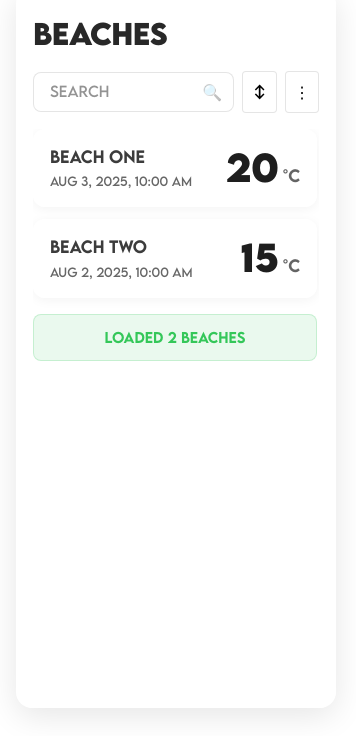
Test: HUDleftPoints Component › filters beaches via search input
This screenshot has width=356, height=736.
Expected: the heading "Beach One" is shown, [50,146,145,167]
Type "Two" into the field with placeholder "search" at (134, 92), box [33,72,234,112]
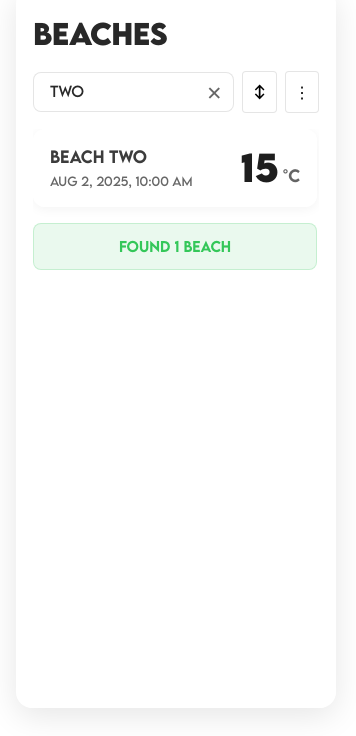
Expected: the heading "Beach One" is gone
Expected: the heading "Beach Two" is shown, [50,146,147,167]
Note: Clear search
Click the button "✕" at (214, 92), box [206,78,222,106]
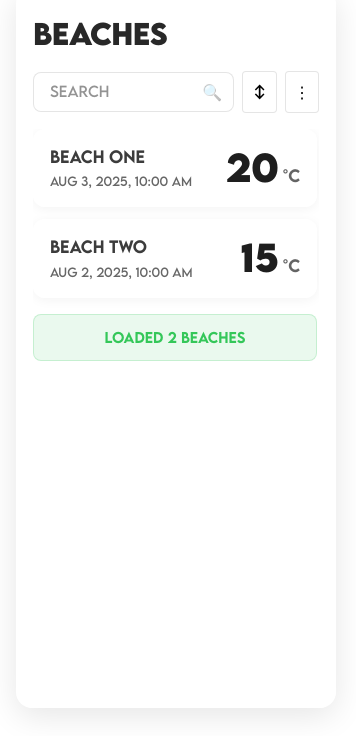
Expected: the heading "Beach Two" is shown, [50,236,147,257]
Expected: the heading "Beach One" is shown, [50,146,145,167]
